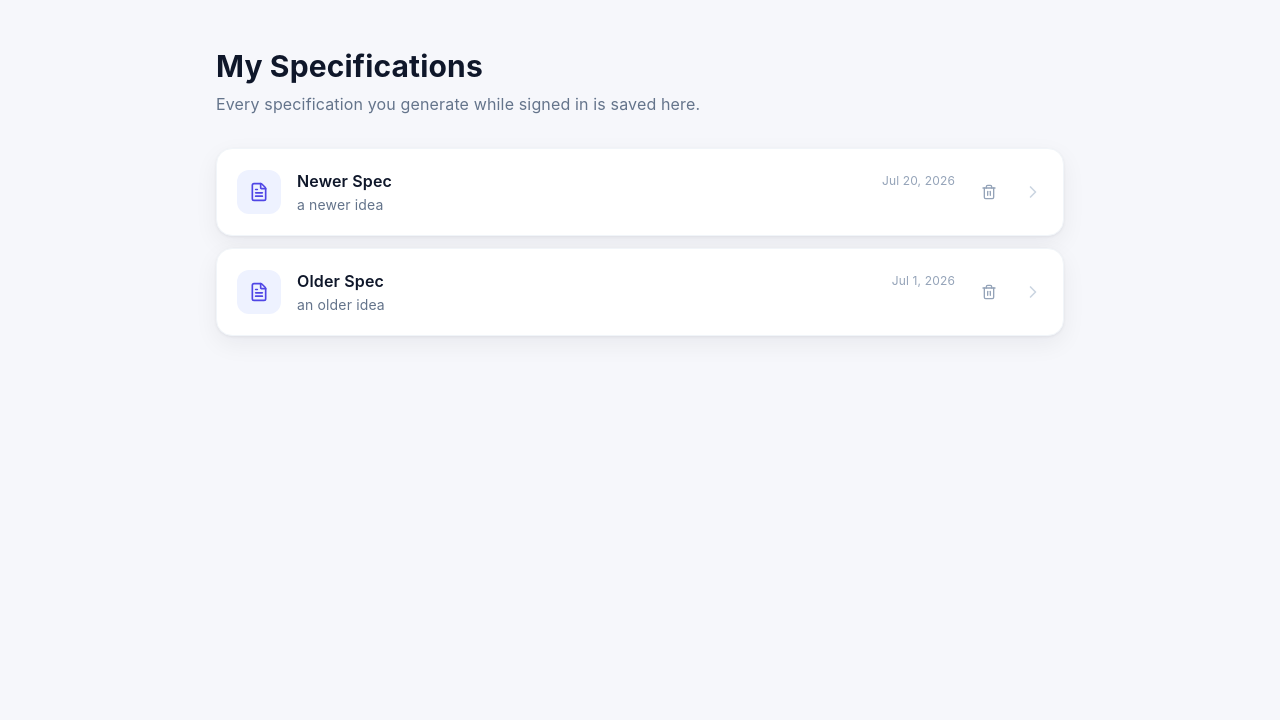
Test: deleting a saved specification › keeps the specification and explains the failure when deleting fails
The width and height of the screenshot is (1280, 720).
Expected: the heading "Older Spec" is shown, left=297, top=269, right=384, bottom=293
Click the button named "delete older spec". click: (989, 292)
box: left=971, top=274, right=1007, bottom=310
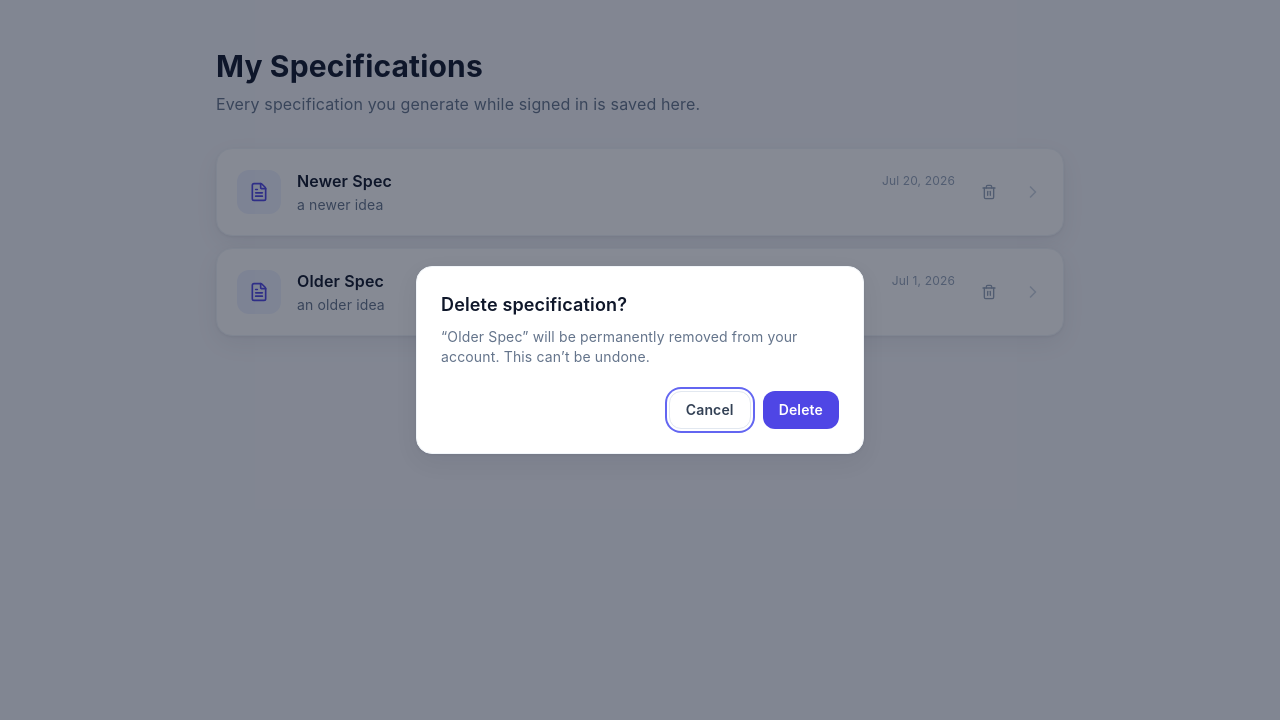
Click the button "Delete". click: (801, 410)
box: left=763, top=391, right=839, bottom=429
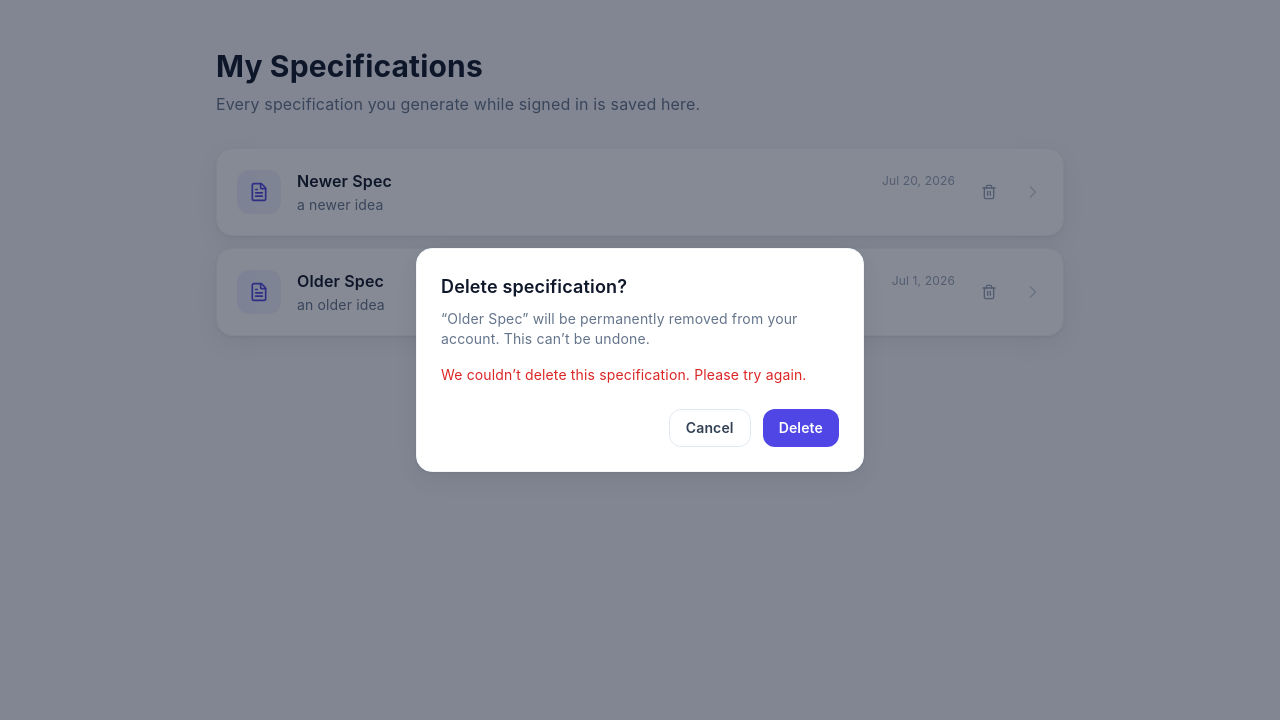
Expected: the heading "Older Spec" is shown, left=297, top=269, right=384, bottom=293
Now the message shows "couldn’t delete", box left=441, top=366, right=806, bottom=383
